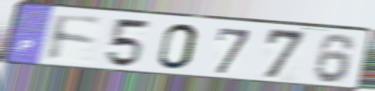0: (155, 22, 200, 72)
5: (104, 16, 152, 70)
6: (312, 32, 356, 85)
7: (262, 27, 308, 81), (213, 26, 254, 75)
F: (46, 12, 105, 63)
